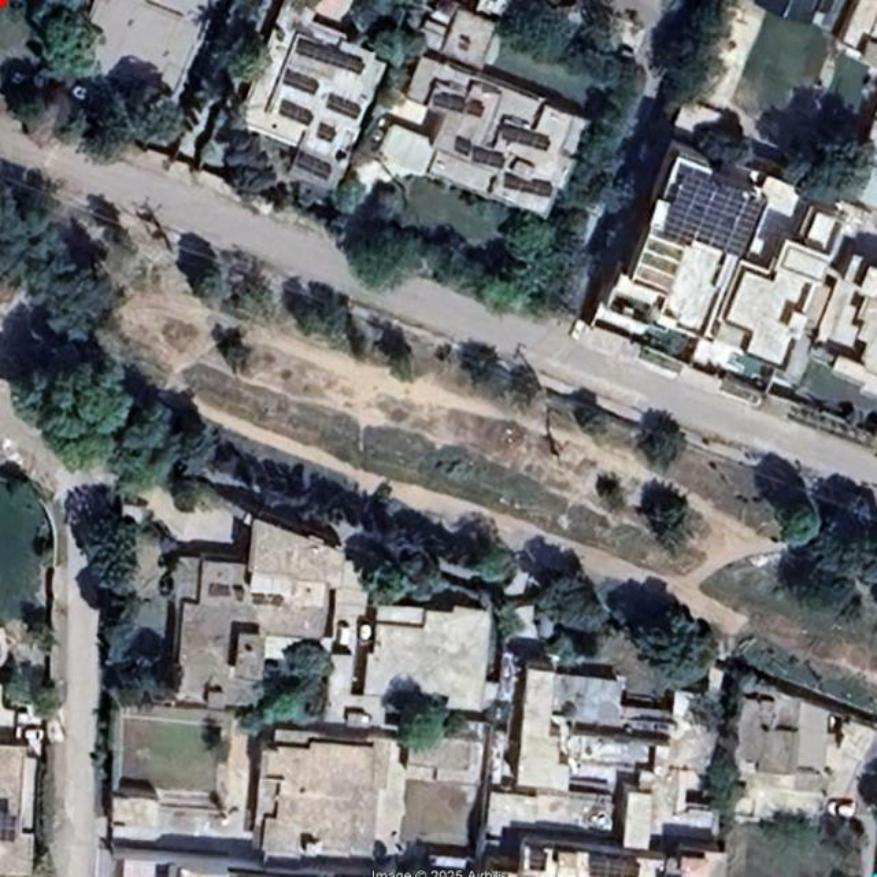Solarpanel: (662, 171, 768, 256), (297, 38, 364, 71), (454, 138, 505, 167), (500, 127, 549, 150), (287, 71, 319, 95), (329, 95, 359, 119), (278, 103, 313, 123), (592, 862, 640, 876)
